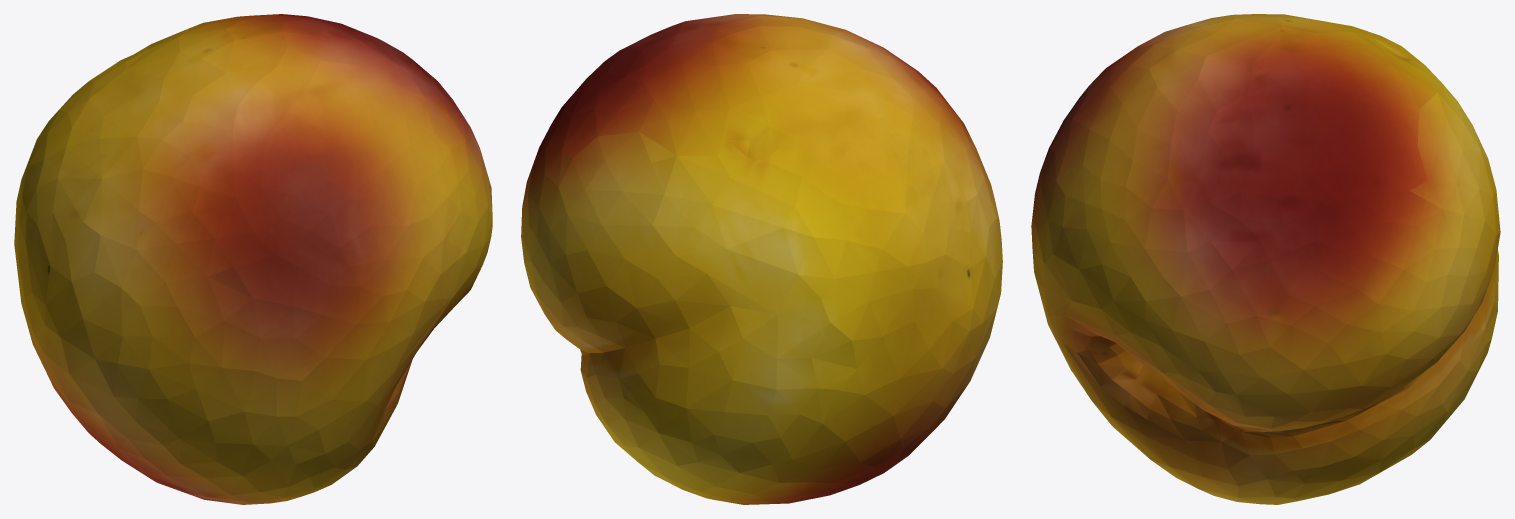
The model's file is 015_peach.obj.
3 views of the same model, side by side, from view 1: azimuth 30°, elevation 25°; view 2: azimuth 150°, elevation 25°; view 3: azimuth 270°, elevation 25° (orthographic). The views are drawn at different scales.
Parts seen in each view (by area): view 1: textured; view 2: textured; view 3: textured.
Part boxes in pixels (x1,y1,x2,y2): textured: (14,14,492,504); textured: (521,14,1002,504); textured: (1031,14,1500,504).
Size of the model in its own units: 0.0622 by 0.0628 by 0.0588.
Materials: 1 (1 with a texture image).
